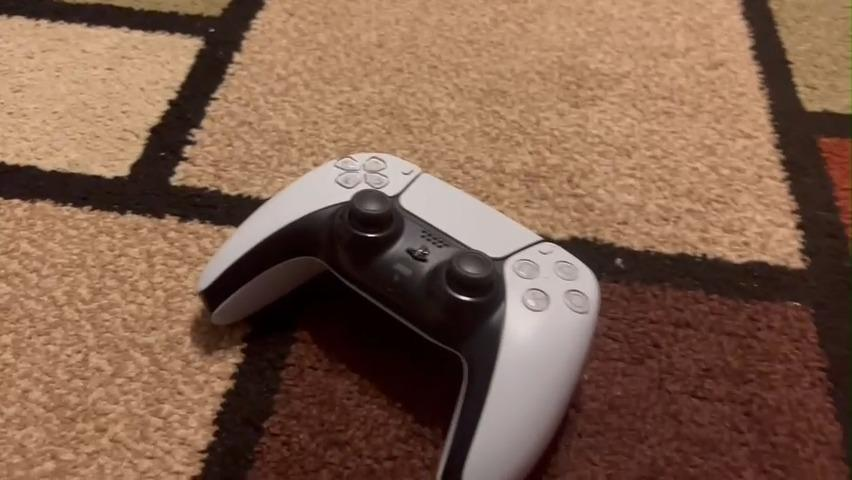controller: (193, 143, 606, 480)
